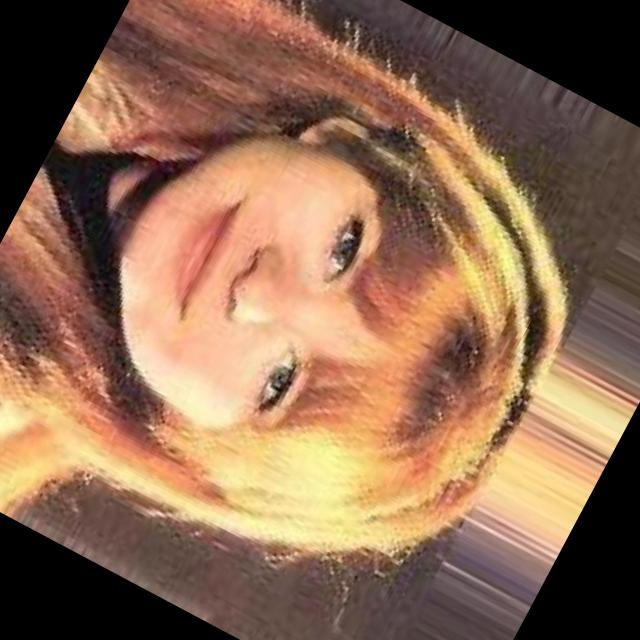bareface: (62, 64, 492, 523)
